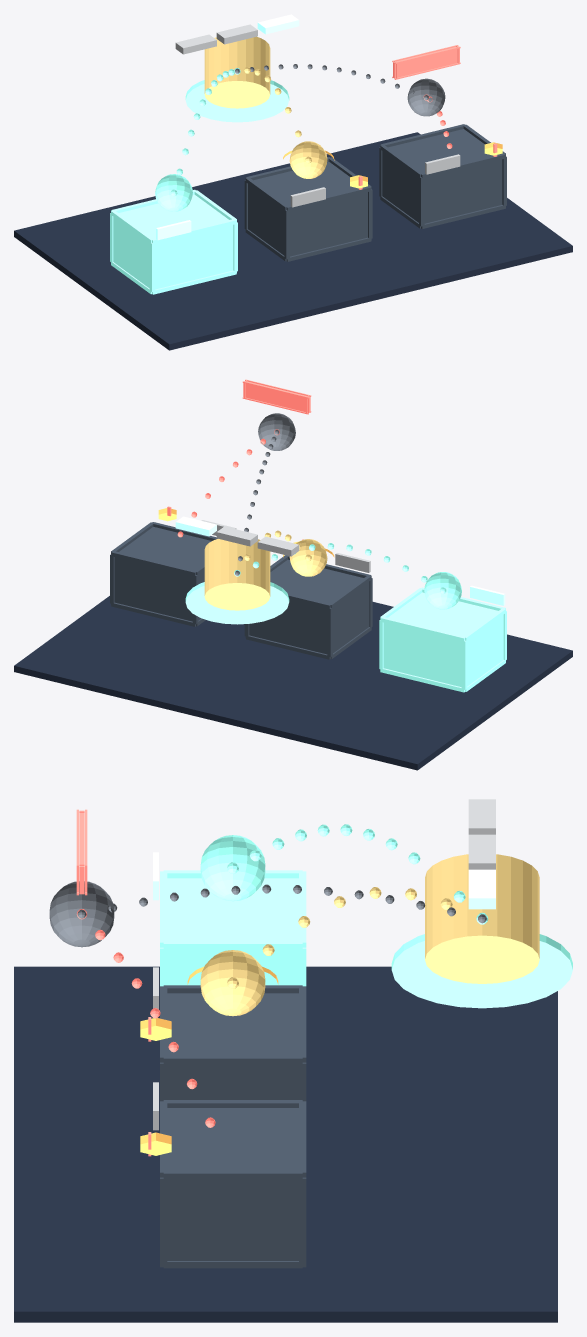
The model's file is scheduling-affinity.glb.
3 renders of one model, top to bottom at view 1: azimuth 30°, elevation 25°; view 2: azimuth 150°, elevation 25°; view 3: azimuth 270°, elevation 25°, orthographic. The views are drawn at different scales.
Visible parts, largest first — view 1: sched-floor, node-c, node-a, node-b, kube-scheduler, scheduler-halo, event-failed-scheduling, pod-pending, pod-bound-toleration, pod-bound-affinity, sched-phase-2, sched-phase-1 (+5 smaller); view 2: sched-floor, node-a, node-b, node-c, kube-scheduler, scheduler-halo, event-failed-scheduling, pod-bound-affinity, pod-pending, pod-bound-toleration, sched-phase-0, sched-phase-2 (+1 smaller); view 3: sched-floor, node-c, node-b, node-a, kube-scheduler, scheduler-halo, pod-bound-toleration, pod-bound-affinity, pod-pending, edge-bind-node-a, sched-phase-2, event-failed-scheduling (+5 smaller).
Boxes of the visible parts, x1,y1,x2,y2 form: sched-floor: (14,132,572,350); node-c: (379,124,506,228); node-a: (110,189,237,294); node-b: (244,157,372,261); kube-scheduler: (204,36,270,108); scheduler-halo: (185,80,289,122); event-failed-scheduling: (392,45,460,79); pod-pending: (407,78,445,116); pod-bound-toleration: (289,141,327,178); pod-bound-affinity: (155,174,192,211); sched-phase-2: (257,14,299,34); sched-phase-1: (216,24,257,44); sched-floor: (14,596,572,770); node-a: (379,587,506,692); node-b: (244,555,372,659); node-c: (110,522,217,626); kube-scheduler: (204,539,270,610); scheduler-halo: (185,582,289,624); event-failed-scheduling: (242,379,311,414); pod-bound-affinity: (424,572,461,609); pod-pending: (258,413,295,450); pod-bound-toleration: (289,539,327,576); sched-phase-0: (257,536,299,556); sched-phase-2: (175,516,216,536); sched-floor: (14,966,557,1322); node-c: (160,1100,306,1268); node-b: (160,985,306,1101); node-a: (160,870,306,986); kube-scheduler: (425,854,539,983); scheduler-halo: (391,934,572,1008); pod-bound-toleration: (200,950,265,1016); pod-bound-affinity: (200,835,265,901); pod-pending: (49,881,114,947); edge-bind-node-a: (227,824,488,924); sched-phase-2: (468,869,495,909); event-failed-scheduling: (76,809,87,895).
Size of what is drawn, in the model's own units: 5.4 by 2.75 by 3.7.
